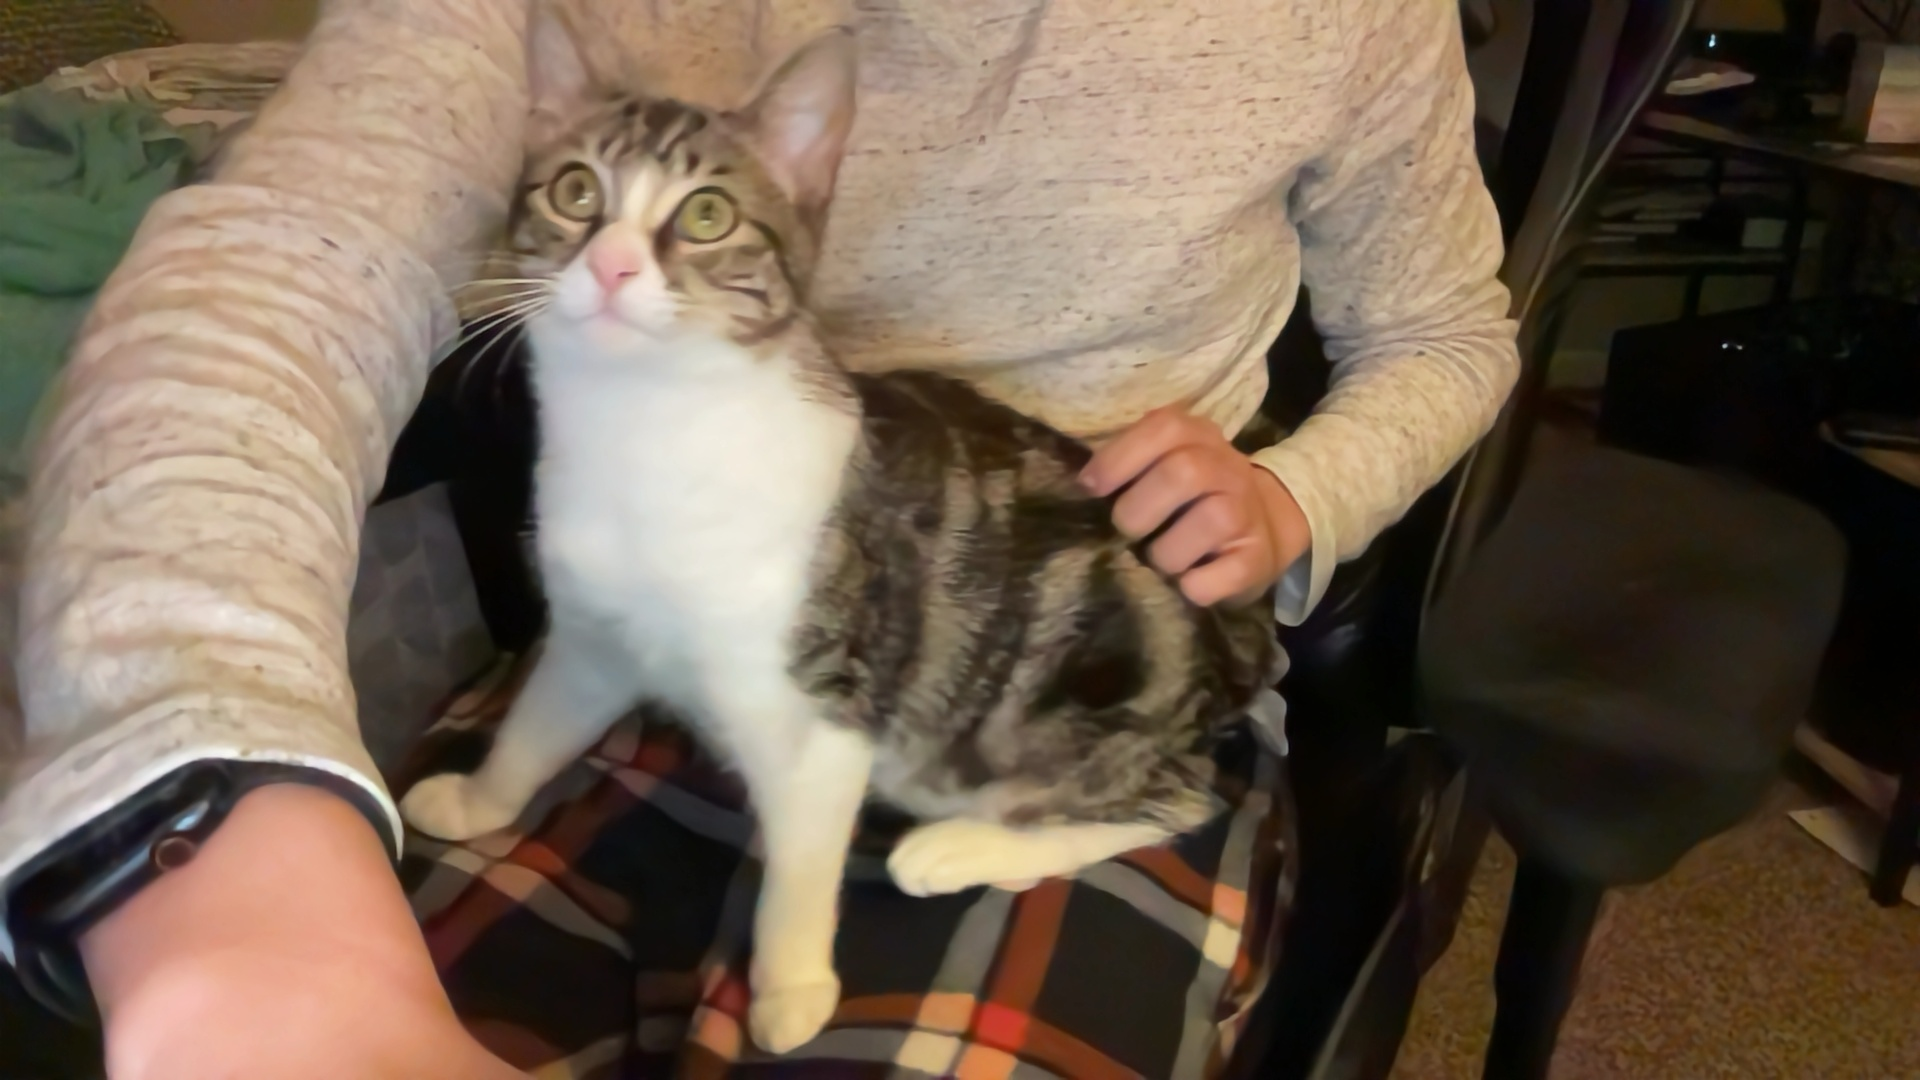cat: (386, 61, 1298, 1071)
